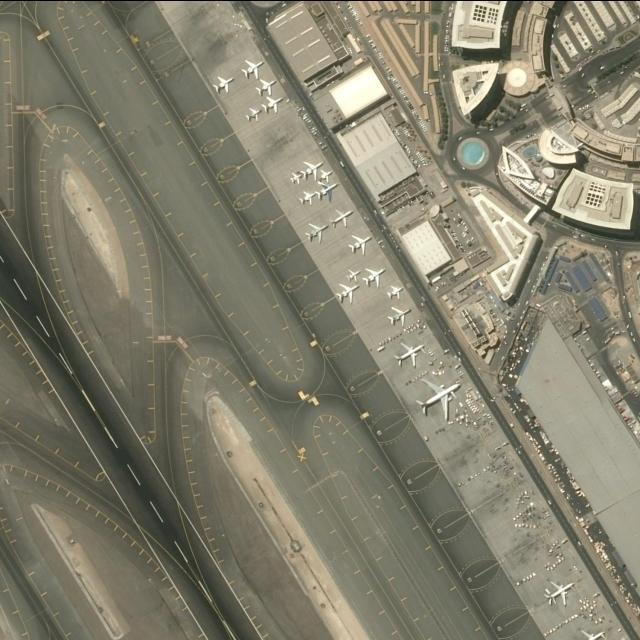Aircraft: (416, 377, 464, 423), (544, 576, 578, 612), (395, 338, 426, 372), (386, 304, 416, 328), (349, 234, 374, 256), (331, 207, 356, 229), (336, 282, 360, 304), (306, 221, 330, 243), (242, 58, 266, 80), (364, 266, 387, 288), (304, 157, 326, 179), (318, 181, 340, 201), (255, 78, 277, 98), (214, 75, 236, 95), (264, 96, 285, 116), (386, 284, 406, 304), (299, 190, 319, 208), (581, 627, 608, 640), (289, 169, 305, 185), (320, 165, 334, 183), (245, 108, 263, 122), (347, 269, 363, 283)
